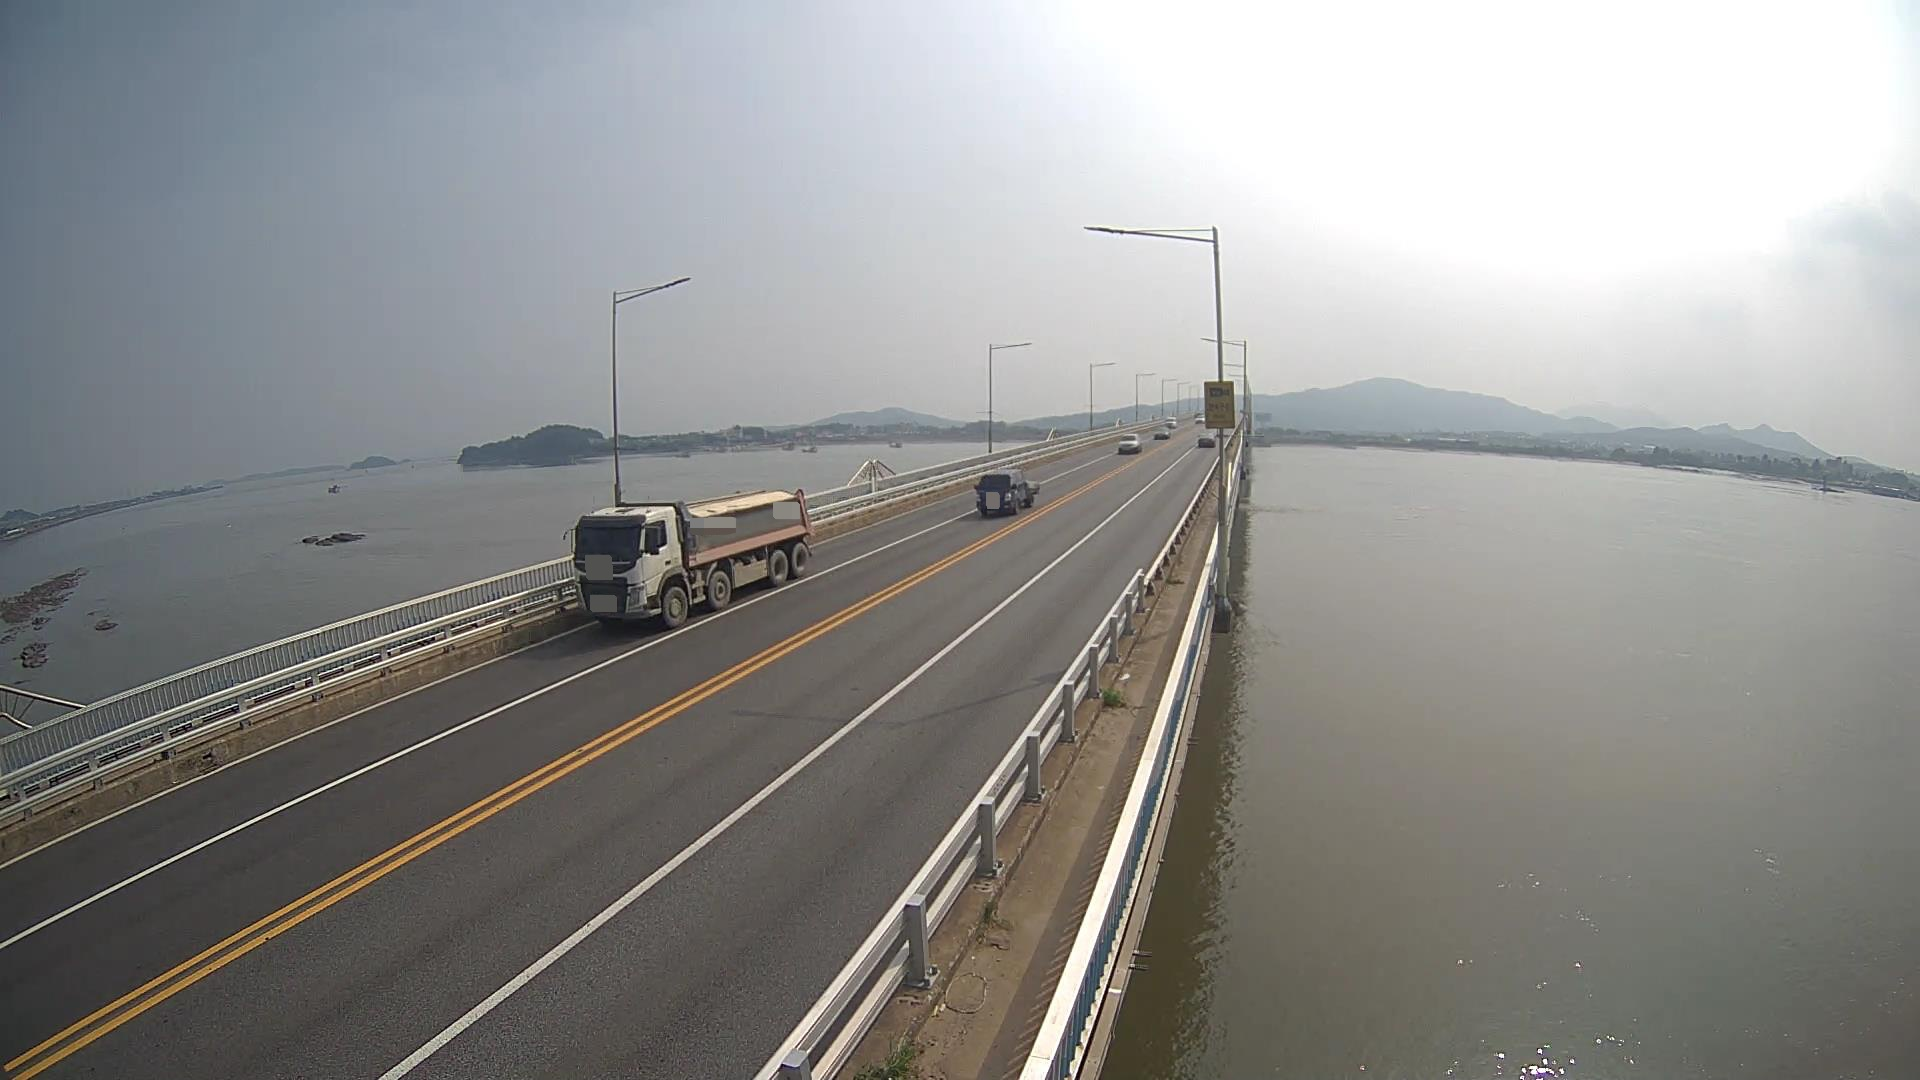정상차량: (562, 489, 814, 629)
